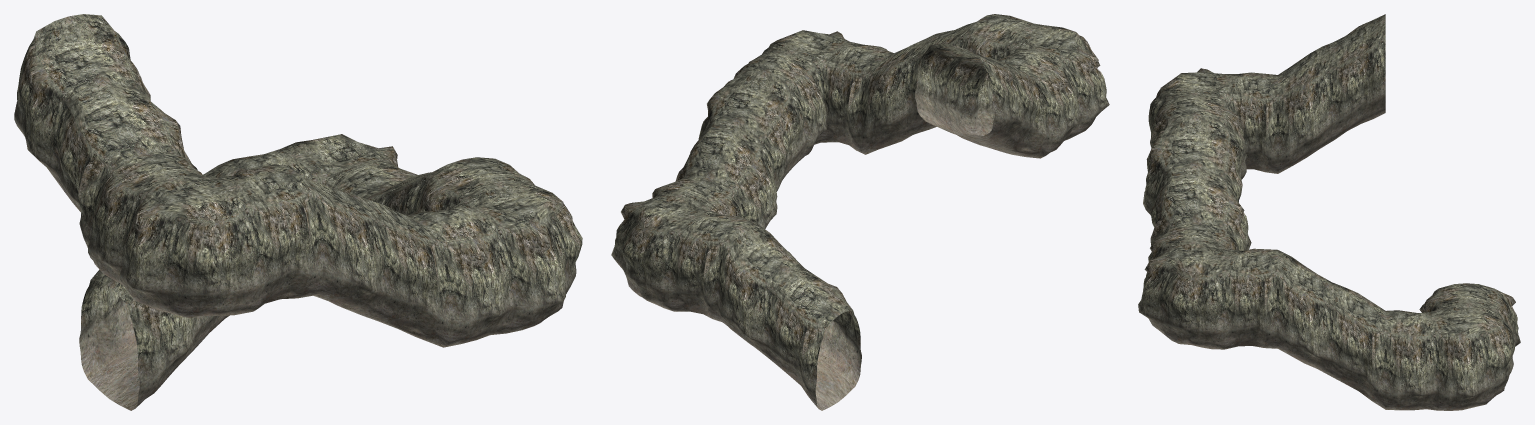
File: poi_all_bunker_mad_bio_s01_r44_spiralhallway_mesh_r44.fbx
3 views of the same model, side by side, from view 1: azimuth 30°, elevation 25°; view 2: azimuth 150°, elevation 25°; view 3: azimuth 270°, elevation 25° (orthographic). The views are drawn at different scales.
Visible parts, largest first — view 1: mesh_node; view 2: mesh_node; view 3: mesh_node.
Boxes of the visible parts, x1,y1,x2,y2 form: mesh_node: [14, 14, 582, 410]; mesh_node: [611, 14, 1109, 410]; mesh_node: [1138, 14, 1520, 410].
Size of the model in its own units: 28.78 by 26.73 by 28.42.
